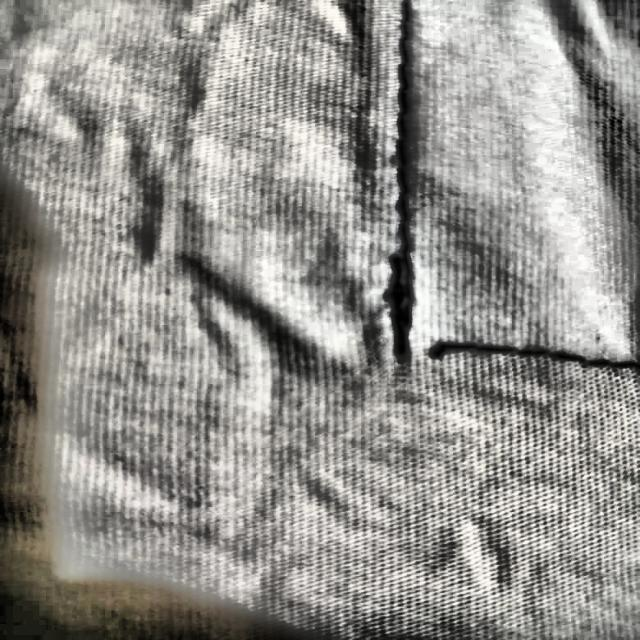Stitch: (368, 264, 518, 428)
